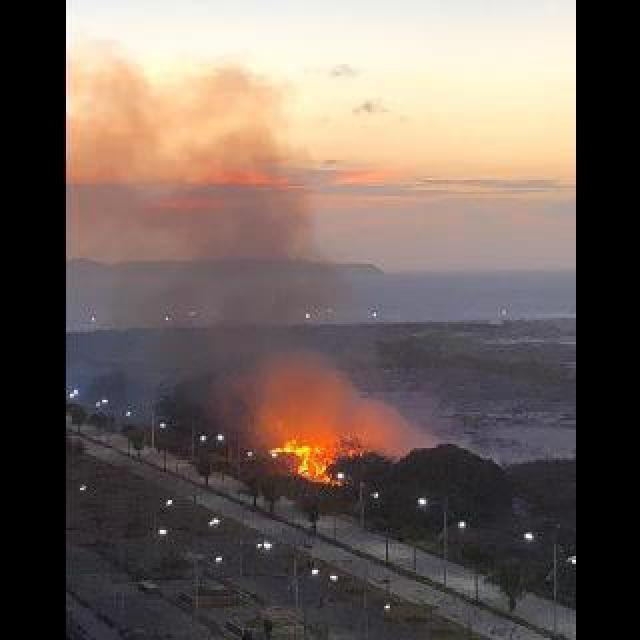smoke: (86, 64, 350, 442)
zfire: (270, 442, 340, 484)
